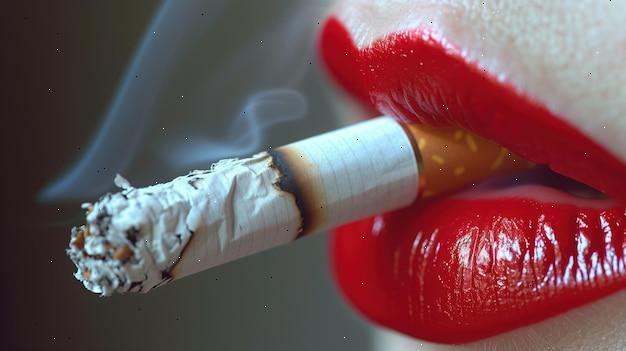cigarette: (67, 117, 528, 294)
